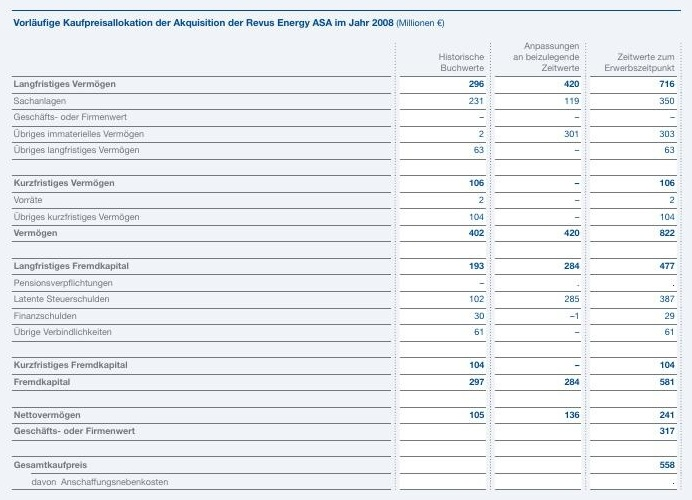table: (0, 0, 692, 500)
